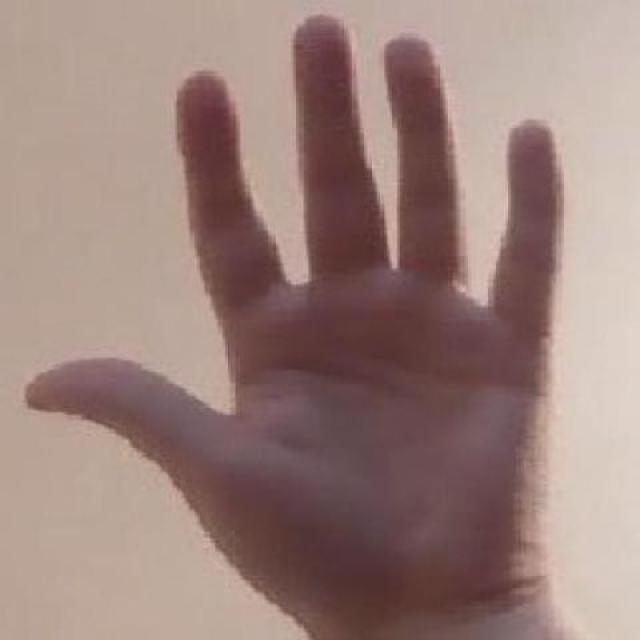Open Hand: (20, 17, 591, 640)
